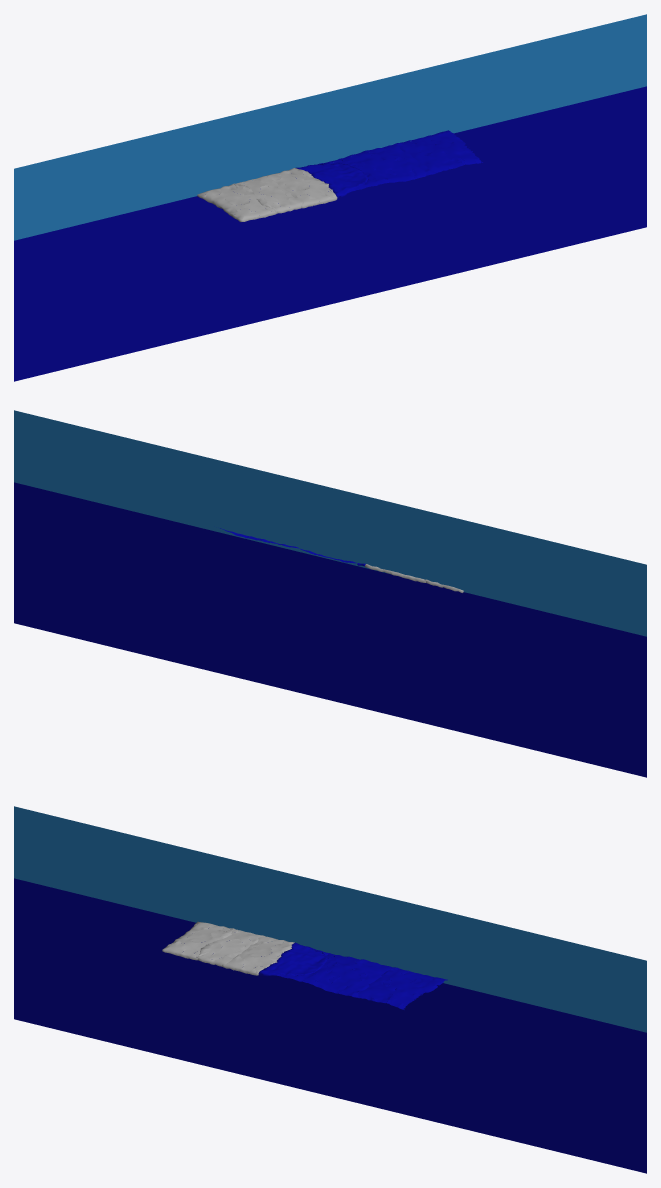
File: background_snow_water.obj
The picture shows the model from 3 angles, top to bottom: view 1: azimuth 30°, elevation 25°; view 2: azimuth 150°, elevation 25°; view 3: azimuth 330°, elevation 25°; orthographic projection.
Visible parts, largest first — view 1: Underwater_Plane.008, Sky_Plane.001, Water_Plane.002, Snow_Plane.006, Ice_Shelf_Plane.003; view 2: Underwater_Plane.008, Sky_Plane.001; view 3: Underwater_Plane.008, Sky_Plane.001, Water_Plane.002, Snow_Plane.006, Ice_Shelf_Plane.003.
Part boxes in pixels (box(x1,y1,x2,y2)): Underwater_Plane.008: box(14, 86, 646, 381); Sky_Plane.001: box(14, 14, 646, 240); Water_Plane.002: box(307, 130, 482, 192); Snow_Plane.006: box(197, 168, 337, 221); Ice_Shelf_Plane.003: box(295, 163, 368, 198); Underwater_Plane.008: box(14, 482, 646, 777); Sky_Plane.001: box(14, 410, 646, 636); Underwater_Plane.008: box(14, 878, 646, 1173); Sky_Plane.001: box(14, 806, 646, 1032); Water_Plane.002: box(270, 946, 447, 1009); Snow_Plane.006: box(162, 921, 294, 975); Ice_Shelf_Plane.003: box(258, 942, 327, 976).
Size of the model in its own units: 192 by 61.57 by 21.83.
